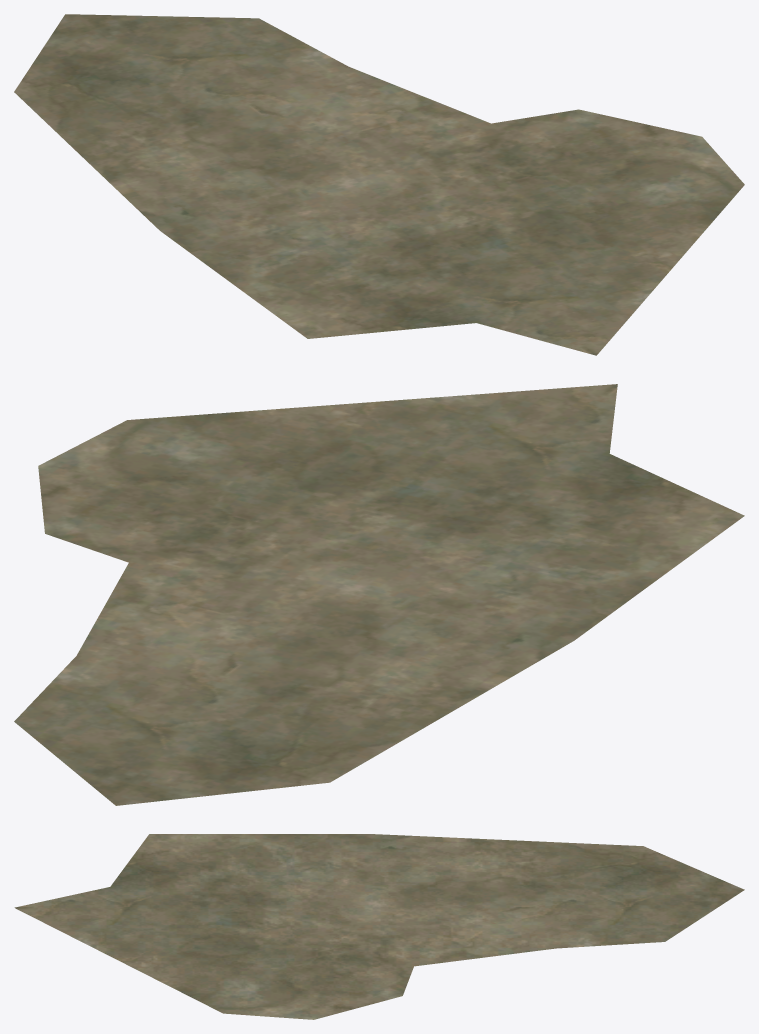
The model's file is OVERHILL_A_01_GROUND24.fbx.
The picture shows the model from 3 angles, top to bottom: view 1: azimuth 30°, elevation 25°; view 2: azimuth 150°, elevation 25°; view 3: azimuth 270°, elevation 25°; orthographic projection. The views are drawn at different scales.
Parts seen in each view (by area): view 1: OVERHILL_A_01_GROUND24; view 2: OVERHILL_A_01_GROUND24; view 3: OVERHILL_A_01_GROUND24.
Part boxes in pixels (x1,y1,x2,y2): OVERHILL_A_01_GROUND24: [14, 14, 744, 355]; OVERHILL_A_01_GROUND24: [14, 384, 744, 805]; OVERHILL_A_01_GROUND24: [14, 834, 744, 1019].
Bounding box in the file's own units: 17543 × 0.00475 × 29160.
Materials: 1 (1 with a texture image).
